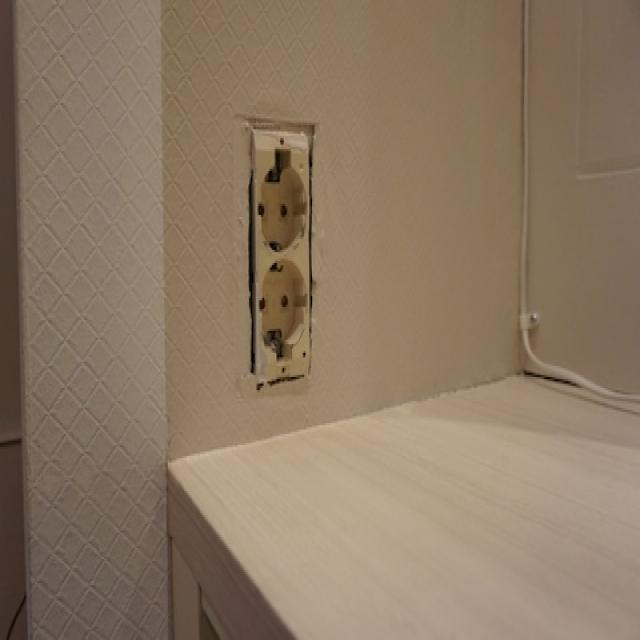typeb: (233, 84, 335, 422)
